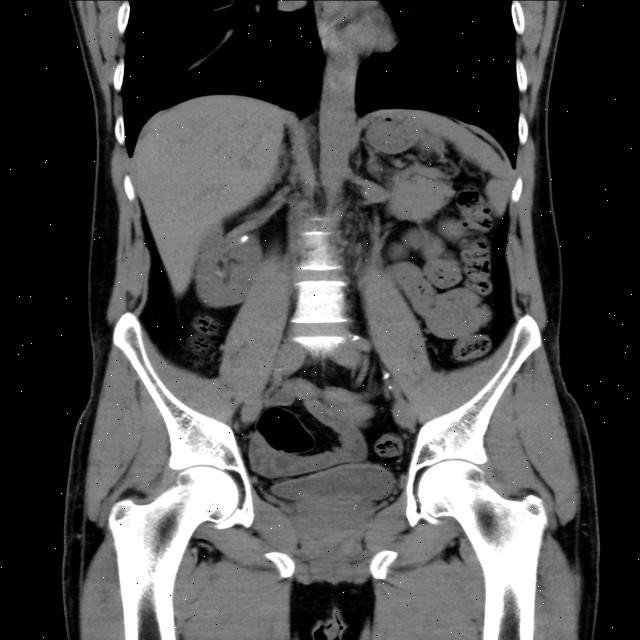kidneystone: (239, 235, 249, 244)
